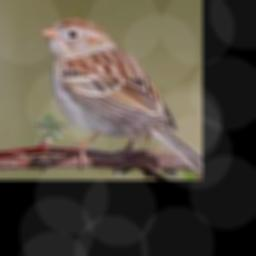Sparrow: (41, 18, 203, 176)
